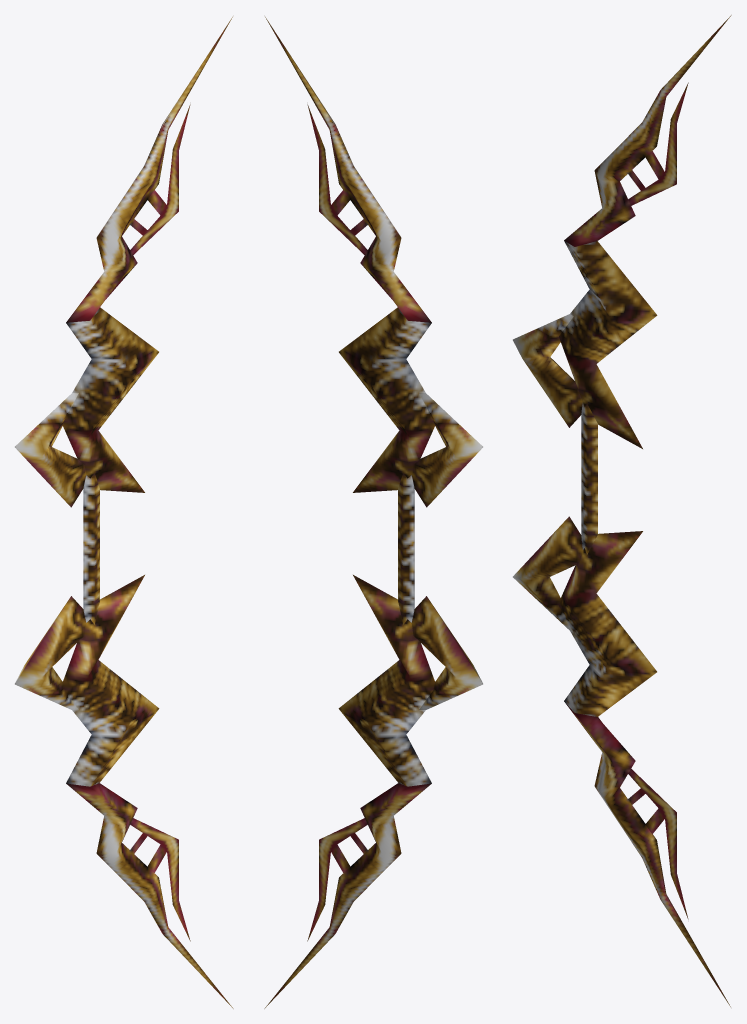
The model's file is wlb_0020-whitegold.glb.
3 views of the same model, side by side, from view 1: azimuth 30°, elevation 25°; view 2: azimuth 150°, elevation 25°; view 3: azimuth 330°, elevation 25° (orthographic).
Bounding box in the file's own units: 0.46 × 1.99 × 0.0699.
1 material, 1 textured.
